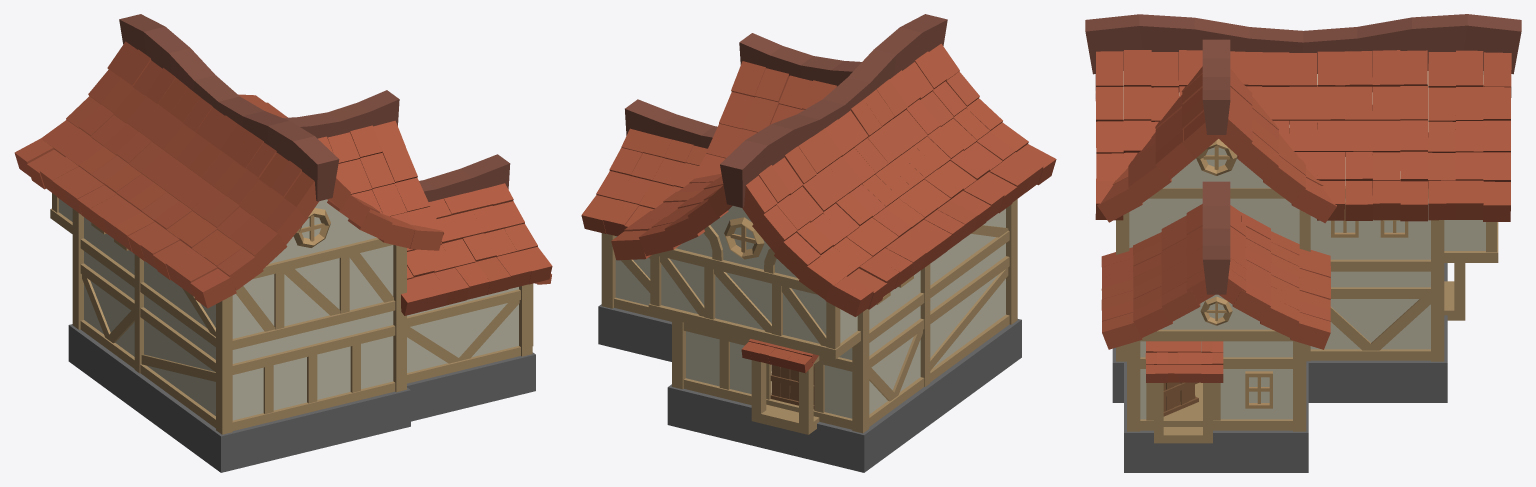
The model's file is fang02_6.fbx.
The picture shows the model from 3 angles, left to right: view 1: azimuth 30°, elevation 25°; view 2: azimuth 150°, elevation 25°; view 3: azimuth 270°, elevation 25°; orthographic projection. The views are drawn at different scales.
Visible parts, largest first — view 1: 立方体.001, 立方体.004, 立方体.033, 立方体.048, 立方体.002, 立方体.032, 立方体.016, 立方体.030, 立方体.008, 立方体.011, 立方体.006, Torus.003; view 2: 立方体.001, 立方体.004, 立方体.033, 立方体.002, 立方体.032, 立方体.016, 立方体.048, 立方体.030, 立方体.008, 立方体.011, 立方体.012, 立方体.006 (+3 smaller); view 3: 立方体.001, 立方体.004, 立方体.048, 立方体.002, 立方体.033, 立方体.030, 立方体.016, 立方体.032, 立方体.011, 立方体.010, 立方体.006, 立方体.012 (+6 smaller).
Part boxes in pixels (x1,y1,x2,y2): 立方体.001: [14, 41, 443, 308]; 立方体.004: [59, 199, 518, 420]; 立方体.033: [68, 324, 535, 472]; 立方体.048: [401, 183, 552, 315]; 立方体.002: [119, 14, 399, 201]; 立方体.032: [52, 193, 532, 434]; 立方体.016: [50, 208, 520, 374]; 立方体.030: [318, 120, 443, 234]; 立方体.008: [82, 253, 519, 381]; 立方体.011: [80, 320, 520, 430]; 立方体.006: [419, 154, 510, 201]; Torus.003: [293, 208, 330, 247]; 立方体.001: [611, 43, 1056, 316]; 立方体.004: [615, 206, 1005, 418]; 立方体.033: [598, 304, 1021, 472]; 立方体.002: [720, 14, 947, 207]; 立方体.032: [601, 199, 1017, 433]; 立方体.016: [648, 230, 1009, 371]; 立方体.048: [581, 128, 707, 236]; 立方体.030: [691, 61, 836, 180]; 立方体.008: [621, 225, 1008, 401]; 立方体.011: [614, 297, 1009, 429]; 立方体.012: [751, 356, 819, 434]; 立方体.006: [625, 99, 717, 148]; 立方体.001: [1095, 50, 1511, 221]; 立方体.004: [1123, 71, 1485, 419]; 立方体.048: [1101, 204, 1330, 349]; 立方体.002: [1085, 14, 1521, 134]; 立方体.033: [1112, 263, 1447, 472]; 立方体.030: [1097, 66, 1336, 223]; 立方体.016: [1140, 186, 1498, 368]; 立方体.032: [1116, 210, 1496, 431]; 立方体.011: [1140, 349, 1430, 430]; 立方体.010: [1145, 341, 1223, 382]; 立方体.006: [1202, 181, 1230, 294]; 立方体.012: [1154, 263, 1465, 443].
Bounding box in the file's own units: 854 × 663 × 789.
